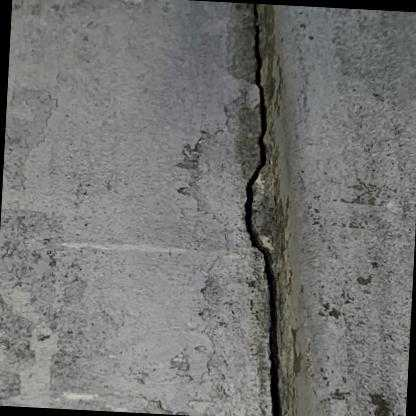crack: (242, 2, 279, 416)
